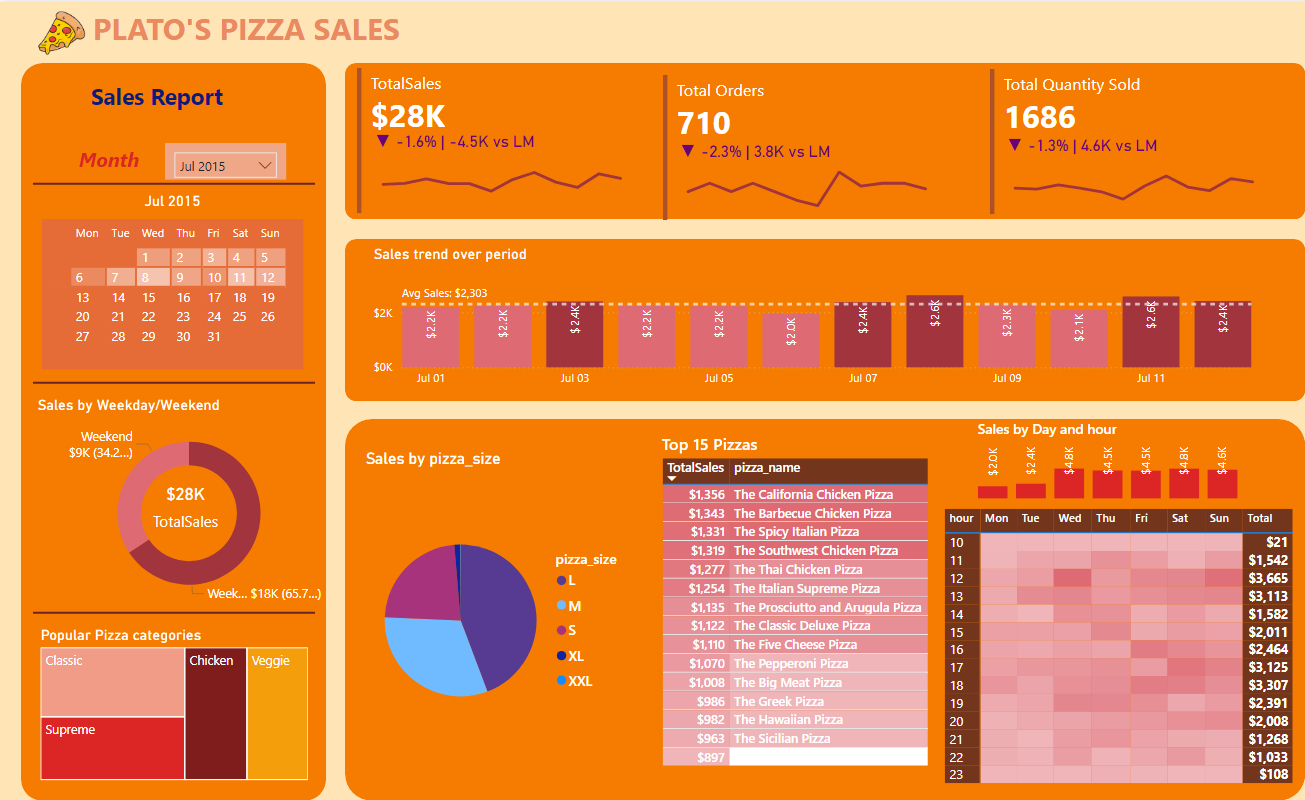

The dashboard page shown, as its layout file describes it:
{"tool":"powerbi","page":{"name":"Page 1","canvas":[1400,850],"ordinal":0},"visuals":[{"type":"shape","box":[0,0,1400,850],"z":0},{"type":"shape","box":[23,64.9,324.5,785.1],"z":1000},{"type":"shape","box":[368.5,64.9,1021.7,166.4],"z":2000},{"type":"textbox","box":[94.7,0,352.1,53.2],"z":3000},{"type":"slicer","fields":{"Values":["Date Table.Month Year"]},"box":[176.6,150,128.7,39.4],"z":4000},{"type":"group","id":"g1","title":"Group 1","box":[375.8,64.9,300.4,165.4],"z":5000},{"type":"cardVisual","fields":{"Data":["pizza_sales.TotalSales"]},"box":[375.8,64.9,300.4,165.4],"z":5000,"group":"g1"},{"type":"cardVisual","fields":{"Data":["pizza_sales.Total Quantity Sold"]},"box":[1048.9,65.9,300.4,165.4],"z":5000,"group":"g3"},{"type":"cardVisual","fields":{"Data":["pizza_sales.Total Orders"]},"box":[701,71.8,300.4,165.4],"z":5000,"group":"g2"},{"type":"group","id":"g2","title":"Group 1","box":[701,71.8,300.4,165.4],"z":6000},{"type":"lineChart","fields":{"Category":["Date Table.Date.Variation.Date Hierarchy.Year","Date Table.Date.Variation.Date Hierarchy.Quarter","Date Table.Date.Variation.Date Hierarchy.Month","Date Table.Date.Variation.Date Hierarchy.Day"],"Y":["pizza_sales.TotalSales"]},"box":[393.6,137.1,282.6,83.7],"z":6000,"group":"g1"},{"type":"lineChart","fields":{"Category":["Date Table.Date.Variation.Date Hierarchy.Year","Date Table.Date.Variation.Date Hierarchy.Quarter","Date Table.Date.Variation.Date Hierarchy.Month","Date Table.Date.Variation.Date Hierarchy.Day"],"Y":["pizza_sales.Total Quantity Sold"]},"box":[1066,141.7,282.6,83.7],"z":6000,"group":"g3"},{"type":"lineChart","fields":{"Category":["Date Table.Date.Variation.Date Hierarchy.Year","Date Table.Date.Variation.Date Hierarchy.Quarter","Date Table.Date.Variation.Date Hierarchy.Month","Date Table.Date.Variation.Date Hierarchy.Day"],"Y":["pizza_sales.Total Orders"]},"box":[718.1,147.6,282.6,83.7],"z":6000,"group":"g2"},{"type":"group","id":"g3","title":"Group 1","box":[1048.9,65.9,300.4,165.4],"z":7000},{"type":"pivotTable","fields":{"Rows":["Date Table.Week number"],"Columns":["Date Table.Day Name"],"Values":["Min(Date Table.day number)"]},"box":[46.1,231.3,278.4,160.2],"z":8000},{"type":"card","fields":{"Values":["Min(Date Table.Month Year)"]},"box":[136.1,193.7,97.4,36.6],"z":9000},{"type":"shape","box":[36.6,391.5,300.4,27.2],"z":10000},{"type":"shape","box":[36.6,180,300.4,27.2],"z":11000},{"type":"donutChart","title":"Sales by Weekday/Weekend","fields":{"Category":["Date Table.Weekday/Weekend"],"Y":["pizza_sales.TotalSales"]},"box":[36.6,418.7,331.8,231.3],"z":12000},{"type":"shape","box":[36.6,636.5,300.4,27.2],"z":13000},{"type":"treemap","title":"Popular Pizza categories","fields":{"Group":["pizza_sales.pizza_category"],"Values":["pizza_sales.Total Orders"]},"box":[39.8,663.7,294.2,168.5],"z":14000},{"type":"shape","box":[368.5,252.3,1021.7,172.7],"z":15000},{"type":"columnChart","title":"Sales trend over period","fields":{"Category":["pizza_sales.order_date"],"Y":["pizza_sales.TotalSales"]},"box":[393.6,258.6,944.2,160.2],"z":16000},{"type":"shape","box":[368.5,443.8,1021.7,406.2],"z":17000},{"type":"tableEx","title":"Top 15 Pizzas ","fields":{"Values":["pizza_sales.TotalSales","pizza_sales.pizza_name"]},"box":[700,457.4,301.1,374.5],"z":19000},{"type":"pivotTable","fields":{"Rows":["pizza_sales.hour"],"Columns":["Date Table.Day Name"],"Values":["pizza_sales.TotalSales"]},"box":[1001.1,534,398.9,312.8],"z":20000},{"type":"clusteredColumnChart","title":"Sales by Day and hour","fields":{"Y":["pizza_sales.TotalSales"],"Category":["Date Table.Day Name"]},"box":[1036.2,443.6,287.2,90.4],"z":21000},{"type":"card","fields":{"Values":["pizza_sales.TotalSales"]},"box":[144.7,493.6,107.4,80.9],"z":22000},{"type":"textbox","box":[79.8,147.9,83,41.5],"z":23000},{"type":"textbox","box":[92.6,78.7,178.7,47.9],"z":24000},{"type":"image","box":[11.7,0,109.6,66],"z":25000},{"type":"pieChart","title":"Sales by pizza_size","fields":{"Category":["pizza_sales.pizza_size"],"Y":["pizza_sales.TotalSales"]},"box":[385.1,475.5,300,345.7],"z":25001}]}

Visuals, with their boxes in screenshot pixels (x1, y1, x2, y2), scaled from the page's 1400x850 canvas onto the 1305x800 screenshot:
shape: locate(0, 0, 1304, 799)
shape: locate(21, 61, 324, 799)
shape: locate(343, 61, 1296, 218)
textbox: locate(88, 0, 416, 50)
slicer - Date Table.Month Year: locate(165, 141, 285, 178)
"Group 1" group: locate(350, 61, 630, 217)
cardVisual - pizza_sales.TotalSales: locate(350, 61, 630, 217)
cardVisual - pizza_sales.Total Quantity Sold: locate(978, 62, 1258, 218)
cardVisual - pizza_sales.Total Orders: locate(653, 68, 933, 223)
"Group 1" group: locate(653, 68, 933, 223)
lineChart - Date Table.Date.Variation.Date Hierarchy.Year x Date Table.Date.Variation.Date Hierarchy.Quarter: locate(367, 129, 630, 208)
lineChart - Date Table.Date.Variation.Date Hierarchy.Year x Date Table.Date.Variation.Date Hierarchy.Quarter: locate(994, 133, 1257, 212)
lineChart - Date Table.Date.Variation.Date Hierarchy.Year x Date Table.Date.Variation.Date Hierarchy.Quarter: locate(669, 139, 933, 218)
"Group 1" group: locate(978, 62, 1258, 218)
pivotTable - Date Table.Week number x Date Table.Day Name: locate(43, 218, 302, 368)
card - Min(Date Table.Month Year): locate(127, 182, 218, 217)
shape: locate(34, 368, 314, 394)
shape: locate(34, 169, 314, 195)
"Sales by Weekday/Weekend" donutChart: locate(34, 394, 343, 612)
shape: locate(34, 599, 314, 625)
"Popular Pizza categories" treemap: locate(37, 625, 311, 783)
shape: locate(343, 237, 1296, 400)
"Sales trend over period" columnChart: locate(367, 243, 1247, 394)
shape: locate(343, 418, 1296, 799)
"Top 15 Pizzas " tableEx: locate(652, 430, 933, 783)
pivotTable - pizza_sales.hour x Date Table.Day Name: locate(933, 503, 1304, 797)
"Sales by Day and hour" clusteredColumnChart: locate(966, 418, 1234, 503)
card - pizza_sales.TotalSales: locate(135, 465, 235, 541)
textbox: locate(74, 139, 152, 178)
textbox: locate(86, 74, 253, 119)
image: locate(11, 0, 113, 62)
"Sales by pizza_size" pieChart: locate(359, 448, 639, 773)
